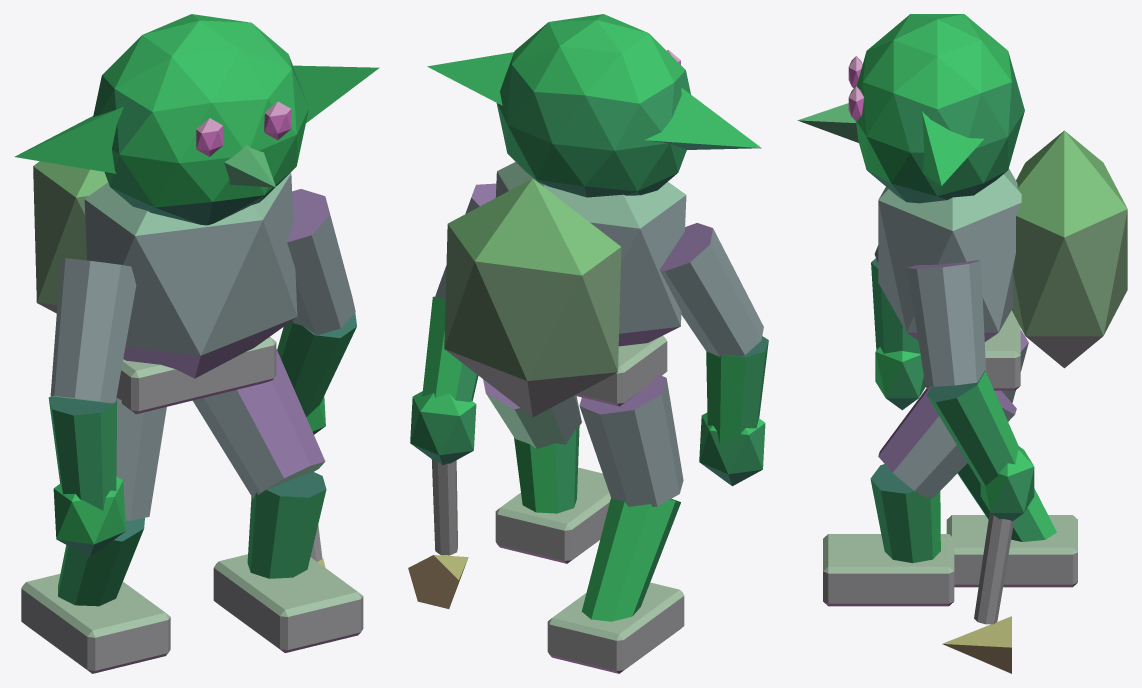
File: creature_goblin_scavenger_down_b_v01.glb
3 views of the same model, side by side, from view 1: azimuth 30°, elevation 25°; view 2: azimuth 150°, elevation 25°; view 3: azimuth 270°, elevation 25° (orthographic). The views are drawn at different scales.
Visible parts, largest first — view 1: GEO_creature_goblin_scavenger_down_b_v01; view 2: GEO_creature_goblin_scavenger_down_b_v01; view 3: GEO_creature_goblin_scavenger_down_b_v01.
Part boxes in pixels (x1,y1,x2,y2): GEO_creature_goblin_scavenger_down_b_v01: (14, 14, 379, 673); GEO_creature_goblin_scavenger_down_b_v01: (408, 14, 768, 673); GEO_creature_goblin_scavenger_down_b_v01: (797, 14, 1127, 673).
Bounding box in the file's own units: 0.88 × 1.48 × 0.7546.
